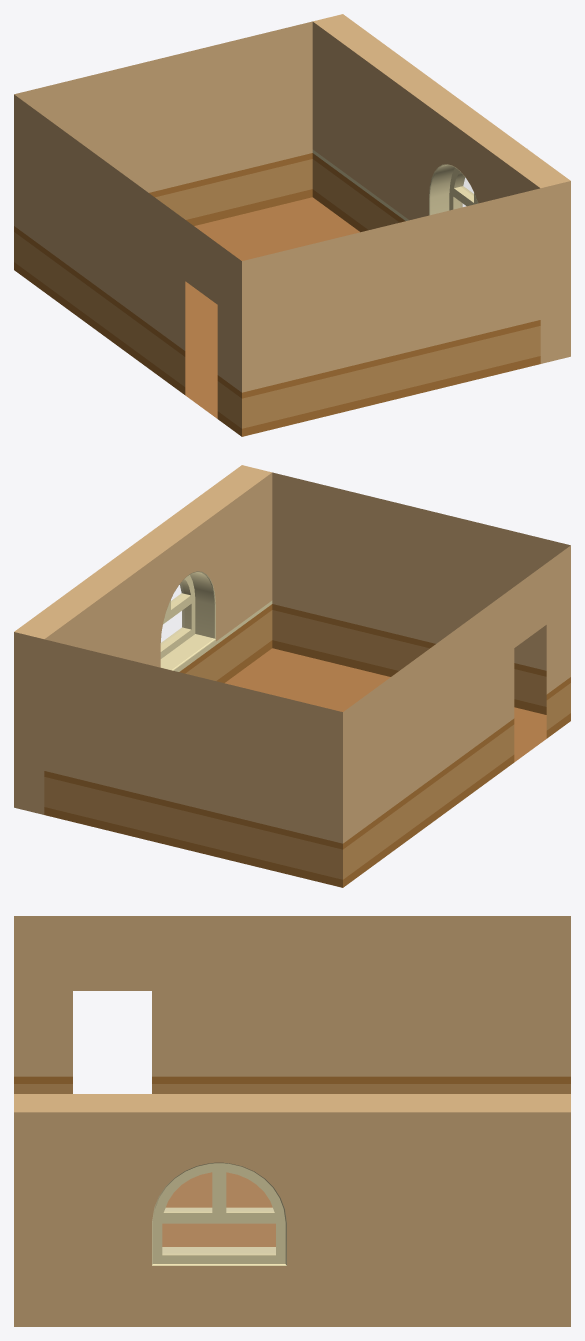
Rendered from Room3.glb.
3 renders of one model, top to bottom at view 1: azimuth 30°, elevation 25°; view 2: azimuth 150°, elevation 25°; view 3: azimuth 270°, elevation 25°, orthographic. The views are drawn at different scales.
Parts seen in each view (by area): view 1: Room; view 2: Room; view 3: Room.
Part boxes in pixels (x1=…): Room: x1=14, y1=14, x2=570, y2=436; Room: x1=14, y1=465, x2=570, y2=887; Room: x1=14, y1=916, x2=570, y2=1326.
Bounding box in the file's own units: 5.88 × 3 × 7.05.
3 materials, 1 textured.
